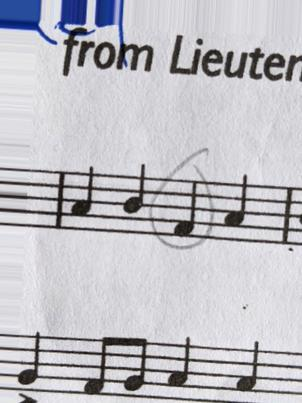A: (218, 172, 251, 242), (65, 162, 96, 234), (165, 336, 194, 402), (234, 339, 263, 402)
B: (122, 160, 150, 242)
F: (170, 178, 199, 244)
G: (15, 329, 43, 398)
